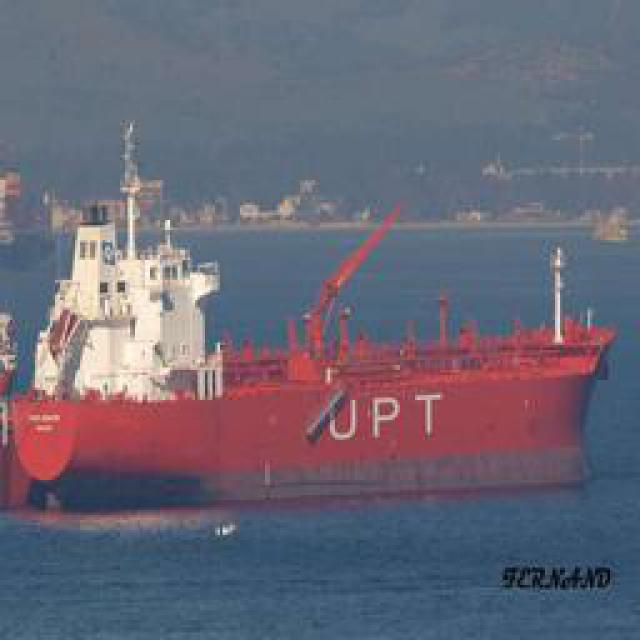Ship: (11, 121, 619, 507)
